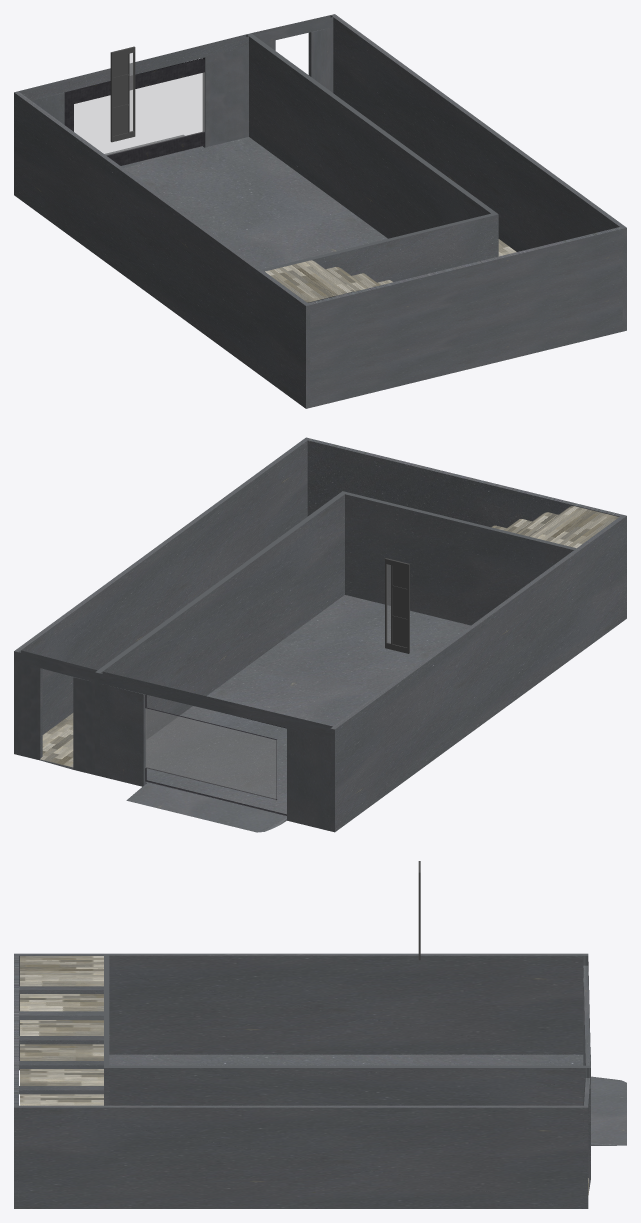
Rendered from Porton-transformed.glb.
3 views of the same model, one above another, from view 1: azimuth 30°, elevation 25°; view 2: azimuth 150°, elevation 25°; view 3: azimuth 270°, elevation 25° (orthographic).
Visible parts, largest first — view 1: Cubo.001, Plane.001, Cubo; view 2: Cubo.001, Plane.001, Cubo; view 3: Cubo.001.
Boxes of the visible parts, bbox=[...] form: Cubo.001: bbox=[14, 14, 626, 408]; Plane.001: bbox=[64, 53, 204, 165]; Cubo: bbox=[110, 46, 135, 142]; Cubo.001: bbox=[14, 437, 626, 832]; Plane.001: bbox=[145, 564, 390, 815]; Cubo: bbox=[385, 558, 409, 653]; Cubo.001: bbox=[14, 953, 626, 1208].
Bounding box in the file's own units: 29.4 × 17.73 × 49.46.
5 materials, 3 textured.
